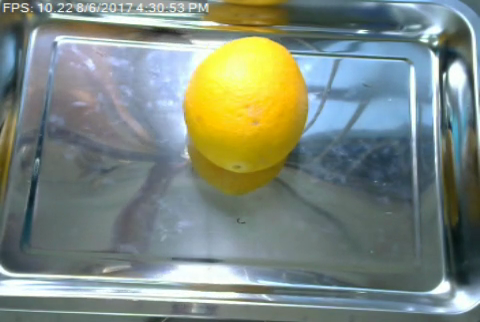Orange: (184, 36, 309, 173)
